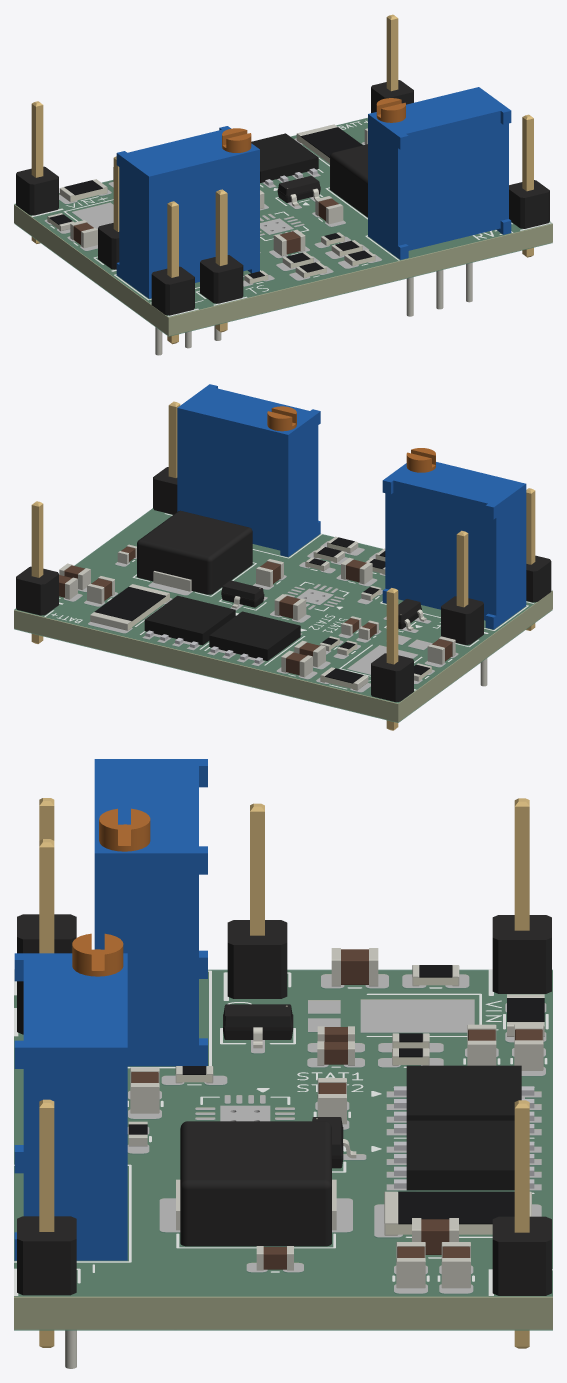
File: board.glb
3 renders of one model, top to bottom at view 1: azimuth 30°, elevation 25°; view 2: azimuth 150°, elevation 25°; view 3: azimuth 270°, elevation 25°, orthographic. The views are drawn at different scales.
Parts seen in each view (by area): view 1: =>[0:1:1:21] (×2), =>[0:1:1:29], =>[0:1:1:3] (×6), =>[0:1:1:27], =>[0:1:1:24], =>[0:1:1:19], =>[0:1:1:17], =>[0:1:1:5] (×3), =>[0:1:1:13], =>[0:1:1:25], =>[0:1:1:7], =>[0:1:1:23] (+1 smaller); view 2: =>[0:1:1:21] (×2), =>[0:1:1:29], =>[0:1:1:27], =>[0:1:1:3] (×5), =>[0:1:1:17], =>[0:1:1:19] (×2), =>[0:1:1:5] (×8), =>[0:1:1:24], =>[0:1:1:13], =>[0:1:1:7] (×2), =>[0:1:1:25], =>[0:1:1:23] (+1 smaller); view 3: =>[0:1:1:29], =>[0:1:1:21] (×2), =>[0:1:1:27], =>[0:1:1:3] (×6), =>[0:1:1:17], =>[0:1:1:19] (×2), =>[0:1:1:24], =>[0:1:1:5] (×8), =>[0:1:1:13], =>[0:1:1:25], =>[0:1:1:7] (×2), =>[0:1:1:15] (×2) (+3 smaller).
Boxes of the visible parts, x1=… form: =>[0:1:1:21] (×2): x1=116, y1=87, x2=511, y2=355; =>[0:1:1:29]: x1=14, y1=119, x2=552, y2=335; =>[0:1:1:3] (×6): x1=16, y1=14, x2=549, y2=344; =>[0:1:1:27]: x1=14, y1=118, x2=552, y2=316; =>[0:1:1:24]: x1=44, y1=138, x2=381, y2=286; =>[0:1:1:19]: x1=251, y1=133, x2=318, y2=185; =>[0:1:1:17]: x1=330, y1=144, x2=367, y2=217; =>[0:1:1:5] (×3): x1=70, y1=196, x2=343, y2=256; =>[0:1:1:13]: x1=296, y1=124, x2=362, y2=163; =>[0:1:1:25]: x1=31, y1=117, x2=552, y2=316; =>[0:1:1:7]: x1=277, y1=176, x2=320, y2=206; =>[0:1:1:23]: x1=59, y1=179, x2=107, y2=202; =>[0:1:1:21] (×2): x1=177, y1=384, x2=526, y2=686; =>[0:1:1:29]: x1=14, y1=509, x2=552, y2=722; =>[0:1:1:27]: x1=14, y1=508, x2=552, y2=703; =>[0:1:1:3] (×5): x1=16, y1=401, x2=551, y2=730; =>[0:1:1:17]: x1=137, y1=510, x2=252, y2=594; =>[0:1:1:19] (×2): x1=144, y1=595, x2=300, y2=663; =>[0:1:1:5] (×8): x1=59, y1=557, x2=455, y2=677; =>[0:1:1:24]: x1=64, y1=541, x2=458, y2=692; =>[0:1:1:13]: x1=90, y1=584, x2=169, y2=630; =>[0:1:1:7] (×2): x1=221, y1=580, x2=426, y2=630; =>[0:1:1:25]: x1=44, y1=513, x2=552, y2=690; =>[0:1:1:23]: x1=320, y1=667, x2=368, y2=690; =>[0:1:1:29]: x1=14, y1=971, x2=552, y2=1329; =>[0:1:1:21] (×2): x1=14, y1=759, x2=207, y2=1368; =>[0:1:1:27]: x1=14, y1=969, x2=552, y2=1296; =>[0:1:1:3] (×6): x1=17, y1=798, x2=551, y2=1348; =>[0:1:1:17]: x1=176, y1=1121, x2=336, y2=1246; =>[0:1:1:19] (×2): x1=394, y1=1065, x2=534, y2=1190; =>[0:1:1:24]: x1=127, y1=974, x2=546, y2=1293; =>[0:1:1:5] (×8): x1=130, y1=948, x2=543, y2=1288; =>[0:1:1:13]: x1=384, y1=1191, x2=531, y2=1235; =>[0:1:1:25]: x1=14, y1=969, x2=552, y2=1295; =>[0:1:1:7] (×2): x1=223, y1=1004, x2=356, y2=1168; =>[0:1:1:15] (×2): x1=256, y1=1041, x2=354, y2=1270.
Size of the model in its own units: 0.0331 by 0.0171 by 0.023.
